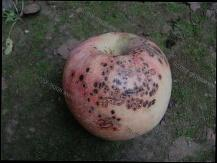rotten apple: (55, 33, 175, 144)
